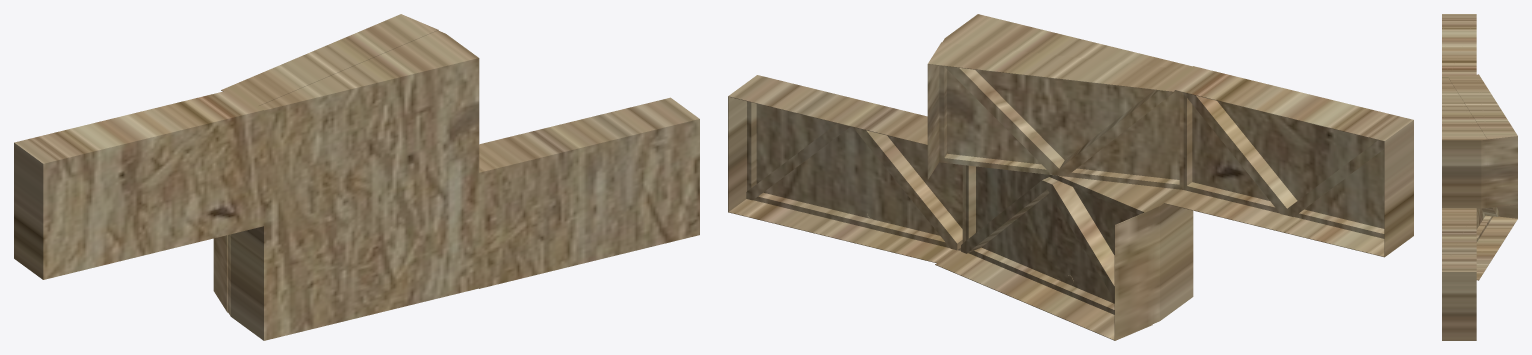
Rendered from KRail_slope_20cm.dae.
3 renders of one model, left to right at view 1: azimuth 30°, elevation 25°; view 2: azimuth 150°, elevation 25°; view 3: azimuth 270°, elevation 25°, orthographic. The views are drawn at different scales.
Parts seen in each view (by area): view 1: KRail slope 20; view 2: KRail slope 20; view 3: KRail slope 20.
Boxes of the visible parts, x1=… form: KRail slope 20: x1=14, y1=14, x2=699, y2=340; KRail slope 20: x1=728, y1=14, x2=1413, y2=340; KRail slope 20: x1=1442, y1=14, x2=1517, y2=340.
Bounding box in the file's own units: 716 × 121 × 241.
Materials: 1 (1 with a texture image).
